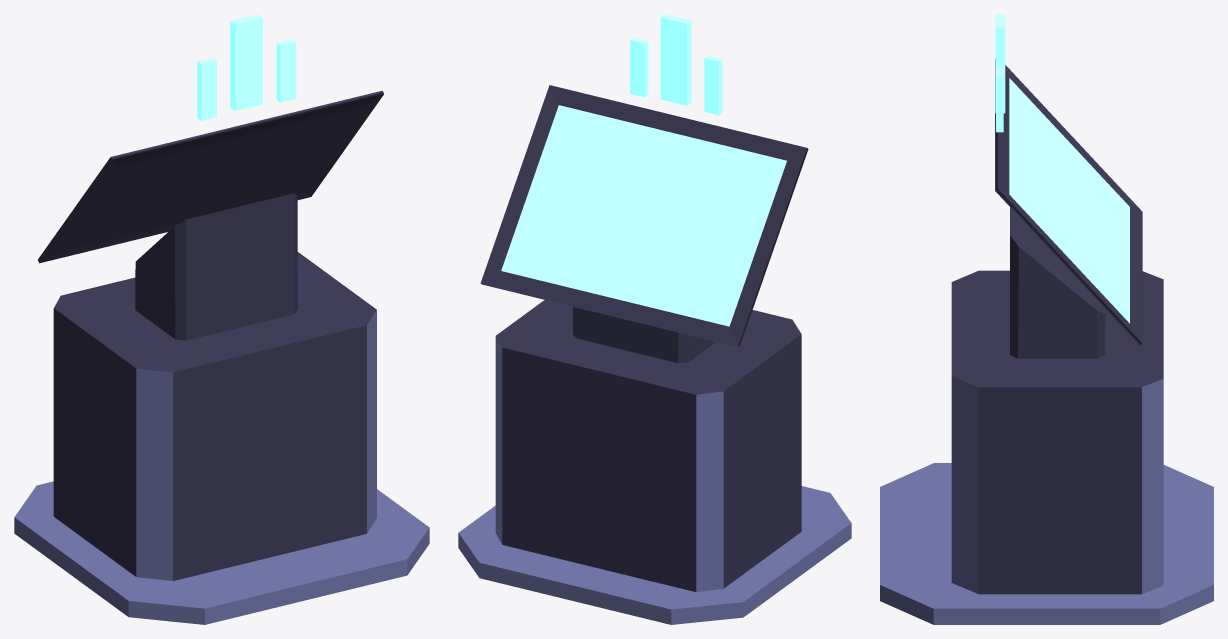
File: Terminal.fbx
The picture shows the model from 3 angles, left to right: view 1: azimuth 30°, elevation 25°; view 2: azimuth 150°, elevation 25°; view 3: azimuth 270°, elevation 25°; orthographic projection. The views are drawn at different scales.
Visible parts, largest first — view 1: Cube, Cube.001, Cube.006, Cube.002, Cube.004, Cube.003; view 2: Cube, Cube.001, Cube.006, Cube.002, Cube.003, Cube.004; view 3: Cube, Cube.006, Cube.001, Cube.002, Cube.004.
Boxes of the visible parts, x1,y1,x2,y2 form: Cube: [53, 193, 376, 580]; Cube.001: [38, 90, 383, 263]; Cube.006: [14, 481, 429, 624]; Cube.002: [230, 14, 262, 110]; Cube.004: [276, 39, 296, 102]; Cube.003: [197, 57, 216, 120]; Cube: [495, 300, 801, 592]; Cube.001: [480, 85, 808, 347]; Cube.006: [458, 486, 851, 624]; Cube.002: [660, 14, 691, 105]; Cube.003: [704, 55, 722, 115]; Cube.004: [630, 37, 648, 97]; Cube: [951, 207, 1163, 594]; Cube.006: [880, 463, 1213, 624]; Cube.001: [995, 59, 1142, 345]; Cube.002: [995, 14, 1005, 113]; Cube.004: [996, 68, 1003, 132].
Bounding box in the file's own units: 154 × 262 × 149.
